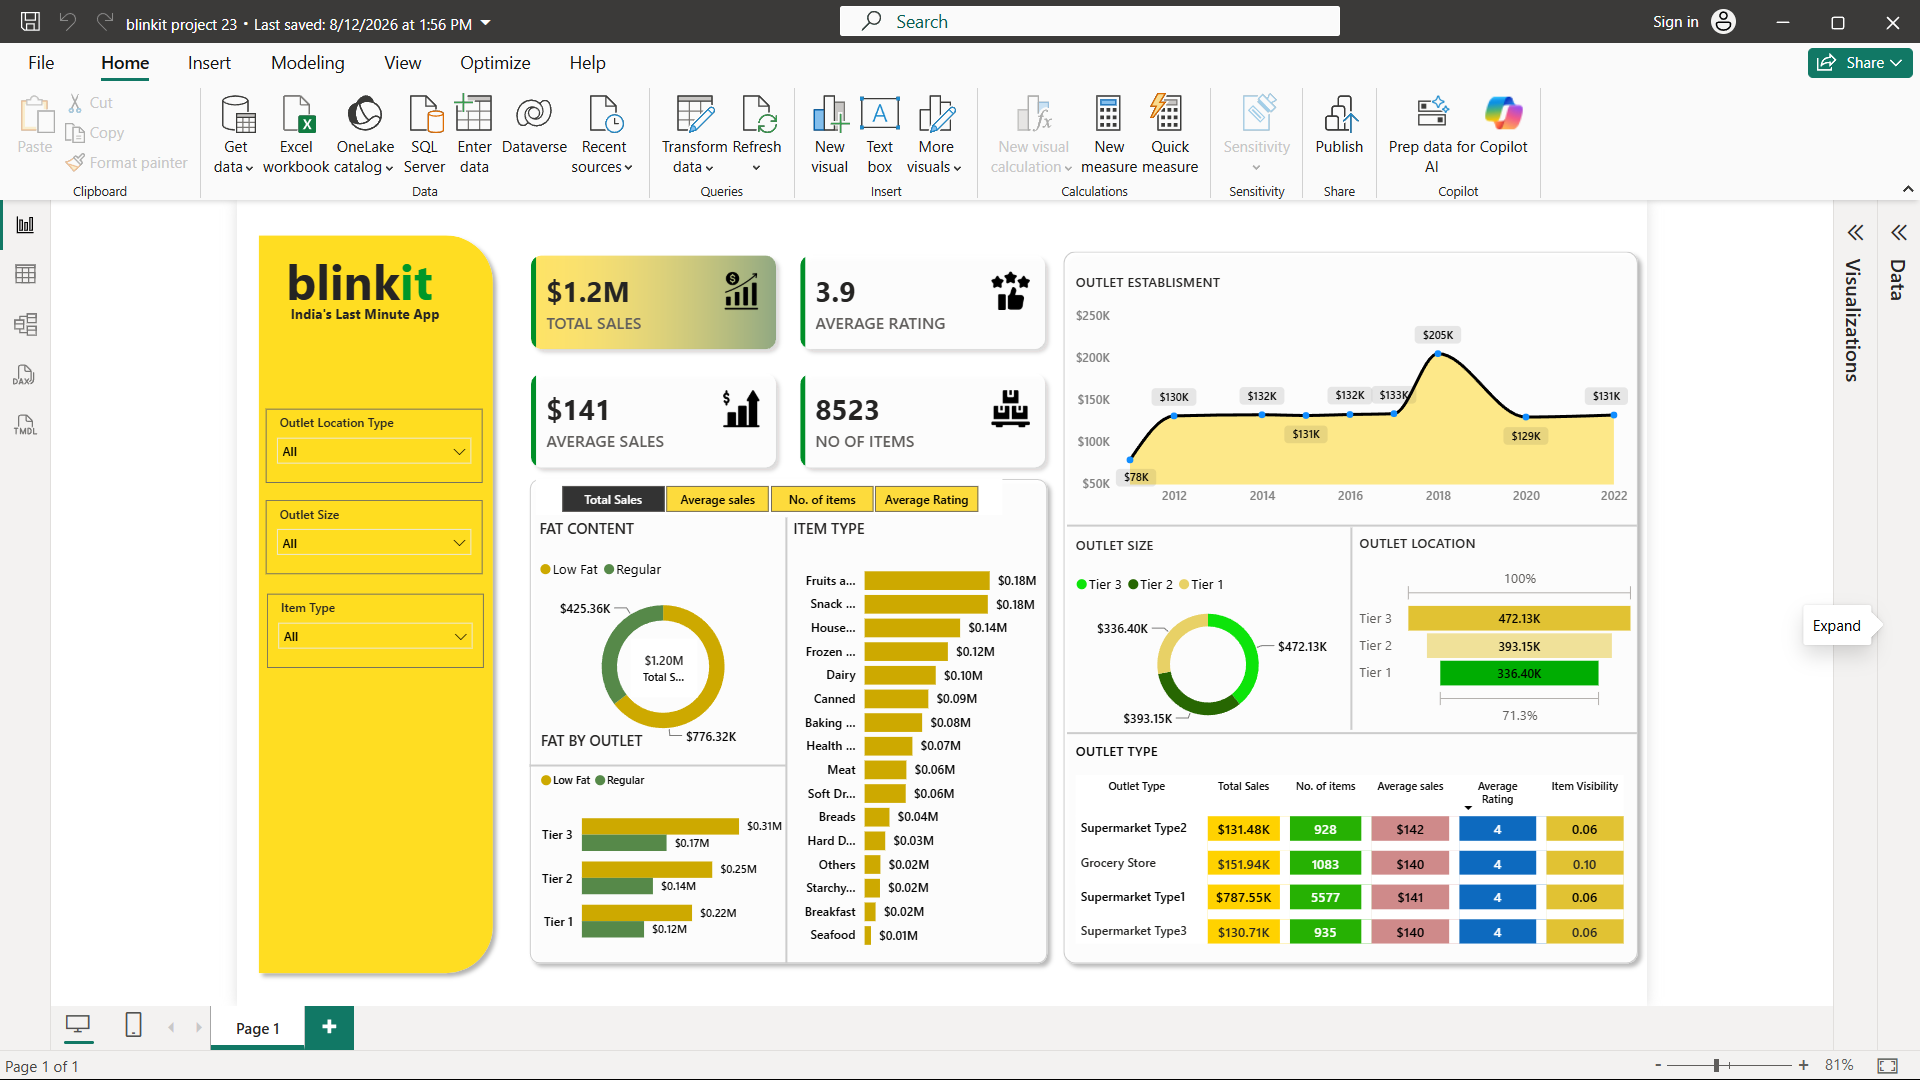

What the dashboard file says about the page in this screenshot:
{"tool":"powerbi","page":{"name":"Page 1","canvas":[1400,800],"ordinal":0},"visuals":[{"type":"shape","box":[12.7,25.4,250.5,750.4],"z":0},{"type":"textbox","box":[26.7,42,188.2,90.3],"z":1000},{"type":"textbox","box":[48.3,99.2,165.3,33.1],"z":2000},{"type":"cardVisual","fields":{"Data":["BlinkIT Grocery Data.Total Sales","BlinkIT Grocery Data.Average Rating","BlinkIT Grocery Data.Average sales","BlinkIT Grocery Data.No. of items"]},"box":[263.3,25.4,569.8,269.6],"z":3000},{"type":"shape","box":[281.1,268.4,531.6,498.5],"z":4000},{"type":"donutChart","title":"FAT CONTENT","fields":{"Y":["BlinkIT Grocery Data.Total Sales"],"Category":["BlinkIT Grocery Data.Item Fat Content"]},"box":[295.1,315.4,255.6,230.2],"z":5000},{"type":"slicer","fields":{"Values":["METRIC.METRIC"]},"box":[296.5,276.7,462.9,35.6],"z":6000},{"type":"clusteredBarChart","title":"FAT BY OUTLET","fields":{"Y":["BlinkIT Grocery Data.Total Sales"],"Series":["BlinkIT Grocery Data.Item Fat Content"],"Category":["BlinkIT Grocery Data.Outlet Location Type"]},"box":[296.3,526.5,254.4,230.2],"z":7000},{"type":"cardVisual","fields":{"Data":["BlinkIT Grocery Data.Total Sales"]},"box":[385.4,431.1,76.3,68.7],"z":8000},{"type":"shape","box":[290.3,464,254.4,194.6],"z":9000},{"type":"shape","box":[418.4,315.4,254.4,442.6],"z":10000},{"type":"barChart","title":"ITEM TYPE","fields":{"Y":["BlinkIT Grocery Data.Total Sales"],"Category":["BlinkIT Grocery Data.Item Type"]},"box":[546.9,315.4,251.8,438.8],"z":11000},{"type":"shape","box":[811.4,42.2,588.1,724.6],"z":12000},{"type":"lineChart","title":"OUTLET ESTABLISMENT","fields":{"Category":["BlinkIT Grocery Data.Outlet Establishment Year"],"Y":["BlinkIT Grocery Data.Total Sales"]},"box":[827.5,72,558.3,239.5],"z":13000},{"type":"shape","box":[823.8,225.8,565.8,194.8],"z":14000},{"type":"donutChart","title":"OUTLET SIZE","fields":{"Y":["BlinkIT Grocery Data.Total Sales"],"Category":["BlinkIT Grocery Data.Outlet Location Type"]},"box":[827.5,332.5,273,193.5],"z":15000},{"type":"shape","box":[978.9,325.1,254.3,201],"z":16000},{"type":"funnel","title":"OUTLET LOCATION","fields":{"Category":["BlinkIT Grocery Data.Outlet Location Type"],"Y":["Sum(BlinkIT Grocery Data.Sales)"]},"box":[1109.2,331.3,284.1,193.5],"z":17000},{"type":"shape","box":[823.8,431.8,565.8,194.8],"z":18000},{"type":"pivotTable","title":"OUTLET TYPE","fields":{"Rows":["BlinkIT Grocery Data.Outlet Type"],"Values":["BlinkIT Grocery Data.Total Sales","BlinkIT Grocery Data.No. of items","BlinkIT Grocery Data.Average sales","BlinkIT Grocery Data.Average Rating","Avg(BlinkIT Grocery Data.Item Visibility)"]},"box":[827.5,537.2,559.6,244.4],"z":19000},{"type":"slicer","fields":{"Values":["BlinkIT Grocery Data.Outlet Location Type"]},"box":[28.5,207.2,214.9,73.8],"z":20000},{"type":"slicer","fields":{"Values":["BlinkIT Grocery Data.Outlet Size"]},"box":[28.5,297.8,214.9,73.8],"z":21000},{"type":"slicer","fields":{"Values":["BlinkIT Grocery Data.Item Type"]},"box":[29.8,390.8,214.9,73.8],"z":22000}]}

Visuals, with their boxes on the page's 1400x800 design canvas (x1, y1, x2, y2). These are canvas units, not pixel positions in the 1920x1080 screenshot, which may show the page scaled, cropped or inside an application window:
shape: 13/25/263/776
textbox: 27/42/215/132
textbox: 48/99/214/132
cardVisual - BlinkIT Grocery Data.Total Sales x BlinkIT Grocery Data.Average Rating: 263/25/833/295
shape: 281/268/813/767
"FAT CONTENT" donutChart: 295/315/551/546
slicer - METRIC.METRIC: 296/277/759/312
"FAT BY OUTLET" clusteredBarChart: 296/526/551/757
cardVisual - BlinkIT Grocery Data.Total Sales: 385/431/462/500
shape: 290/464/545/659
shape: 418/315/673/758
"ITEM TYPE" barChart: 547/315/799/754
shape: 811/42/1400/767
"OUTLET ESTABLISMENT" lineChart: 828/72/1386/312
shape: 824/226/1390/421
"OUTLET SIZE" donutChart: 828/332/1100/526
shape: 979/325/1233/526
"OUTLET LOCATION" funnel: 1109/331/1393/525
shape: 824/432/1390/627
"OUTLET TYPE" pivotTable: 828/537/1387/782
slicer - BlinkIT Grocery Data.Outlet Location Type: 28/207/243/281
slicer - BlinkIT Grocery Data.Outlet Size: 28/298/243/372
slicer - BlinkIT Grocery Data.Item Type: 30/391/245/465
